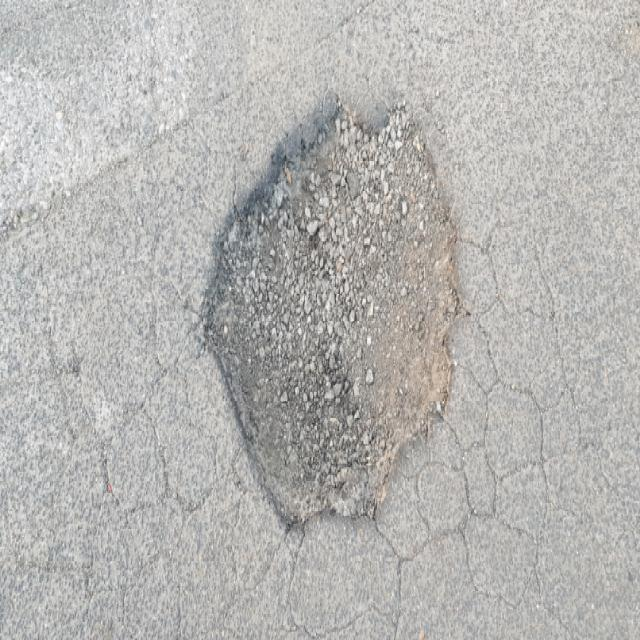Pothole: (198, 72, 465, 542)
